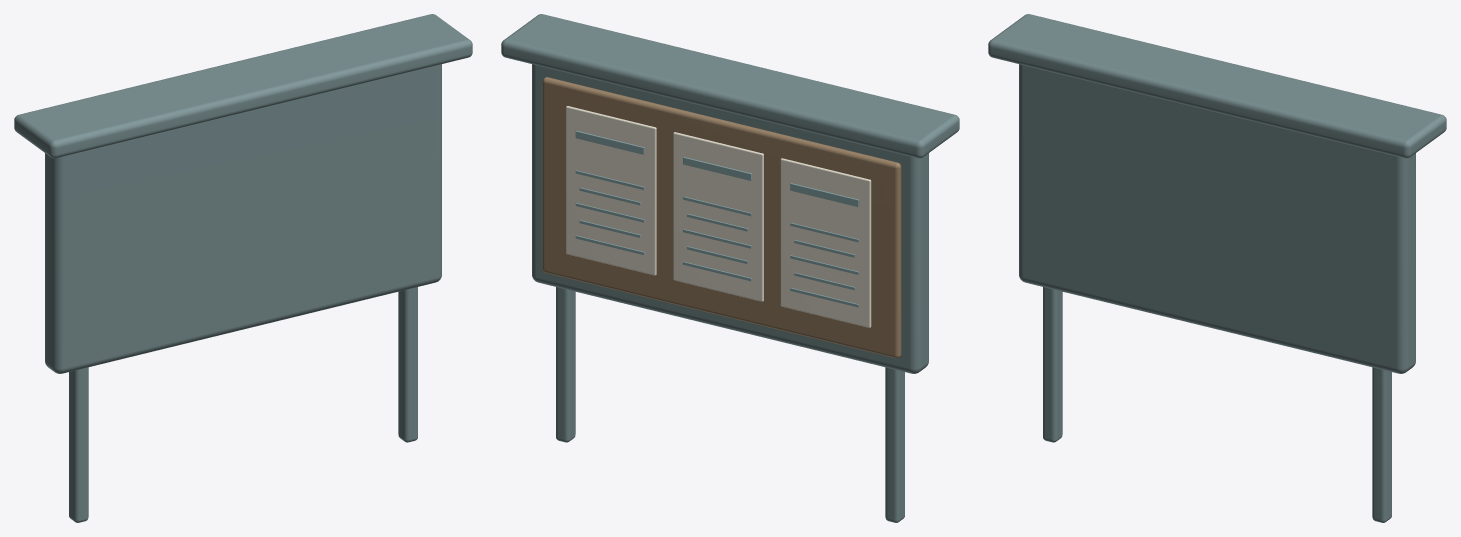
Rendered from bulletin.glb.
3 views of the same model, side by side, from view 1: azimuth 30°, elevation 25°; view 2: azimuth 150°, elevation 25°; view 3: azimuth 330°, elevation 25° (orthographic).
Visible parts, largest first — view 1: Cap; view 2: Cap, Poster, Board, PosterLine; view 3: Cap.
Part boxes in pixels (x1=…): Cap: x1=14, y1=14, x2=472, y2=522; Cap: x1=501, y1=14, x2=959, y2=522; Poster: x1=566, y1=106, x2=871, y2=327; Board: x1=542, y1=77, x2=901, y2=358; PosterLine: x1=575, y1=130, x2=859, y2=307; Cap: x1=988, y1=14, x2=1446, y2=522.
Size of the model in its own units: 2.72 by 2.48 by 0.45.
